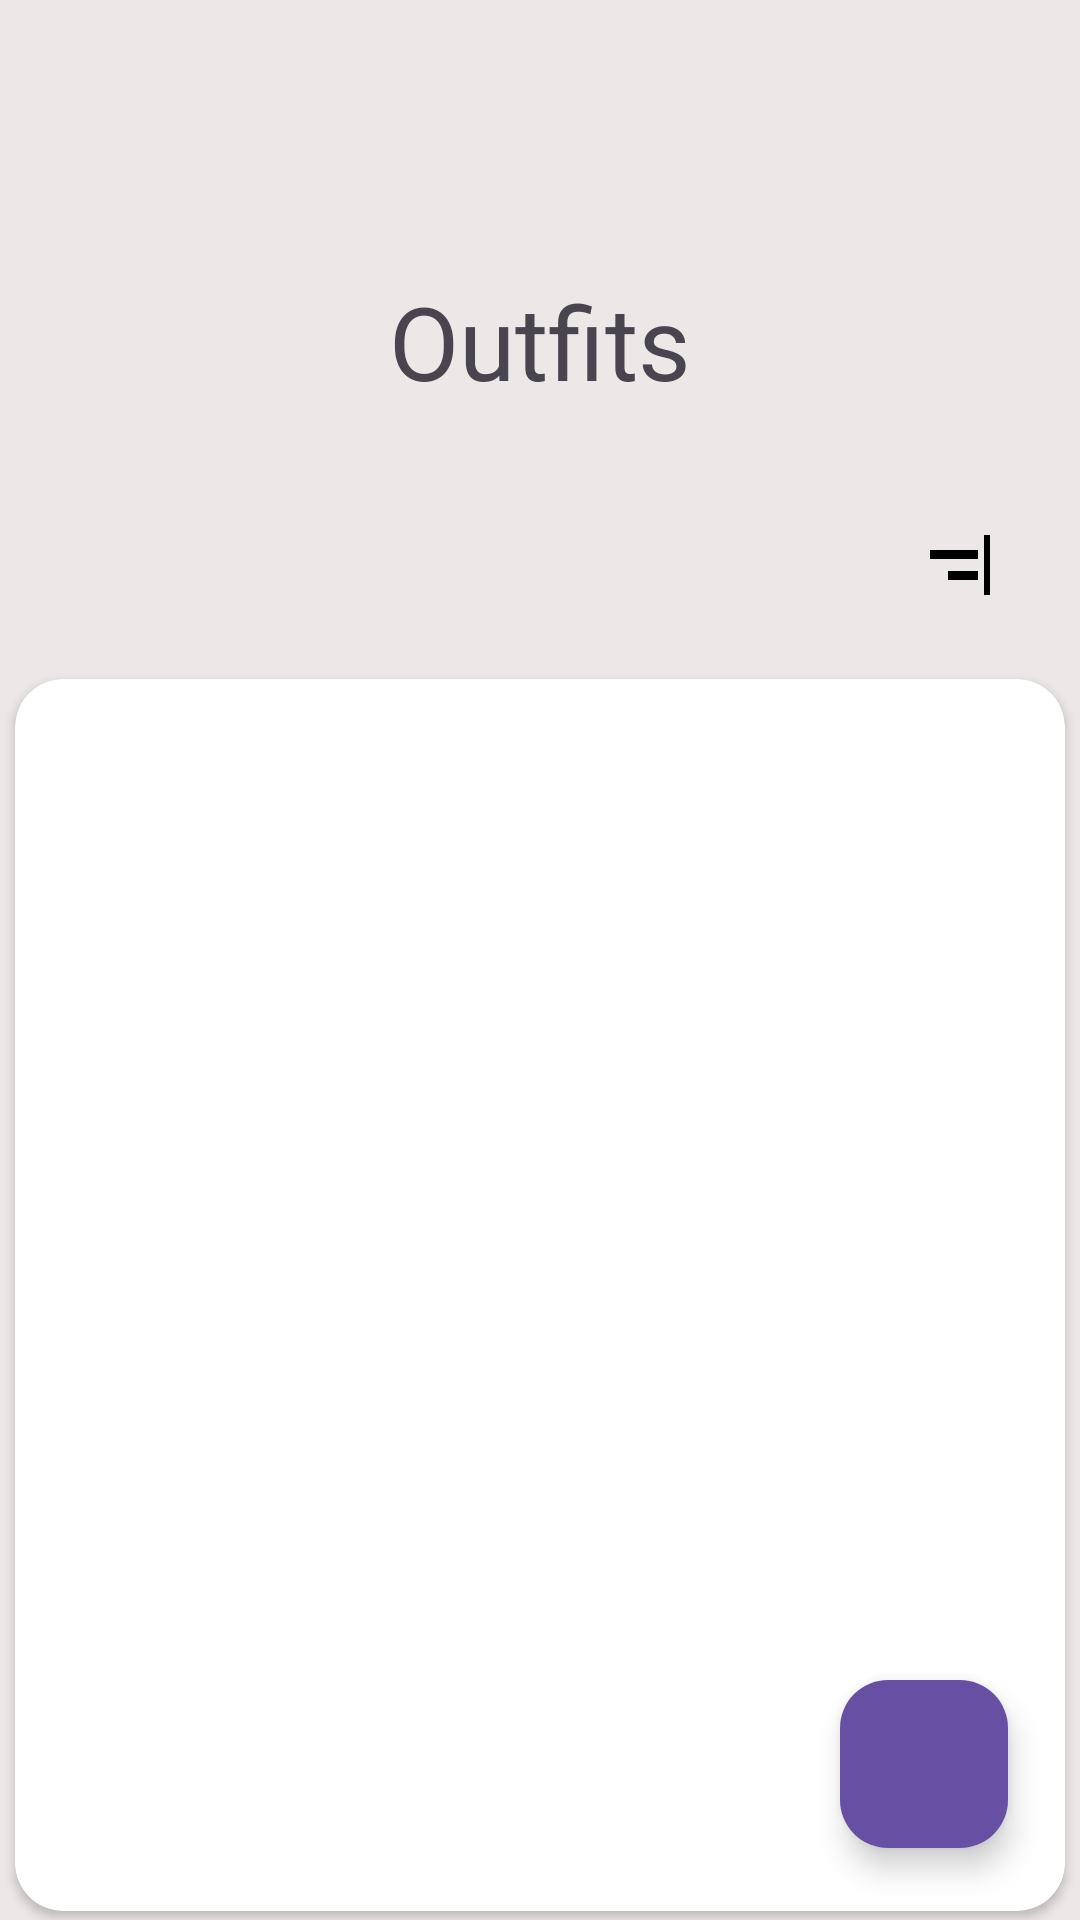

Icon click points for this 1080*1920 phone screenshot, format (x,y):
sort: (960,565)
